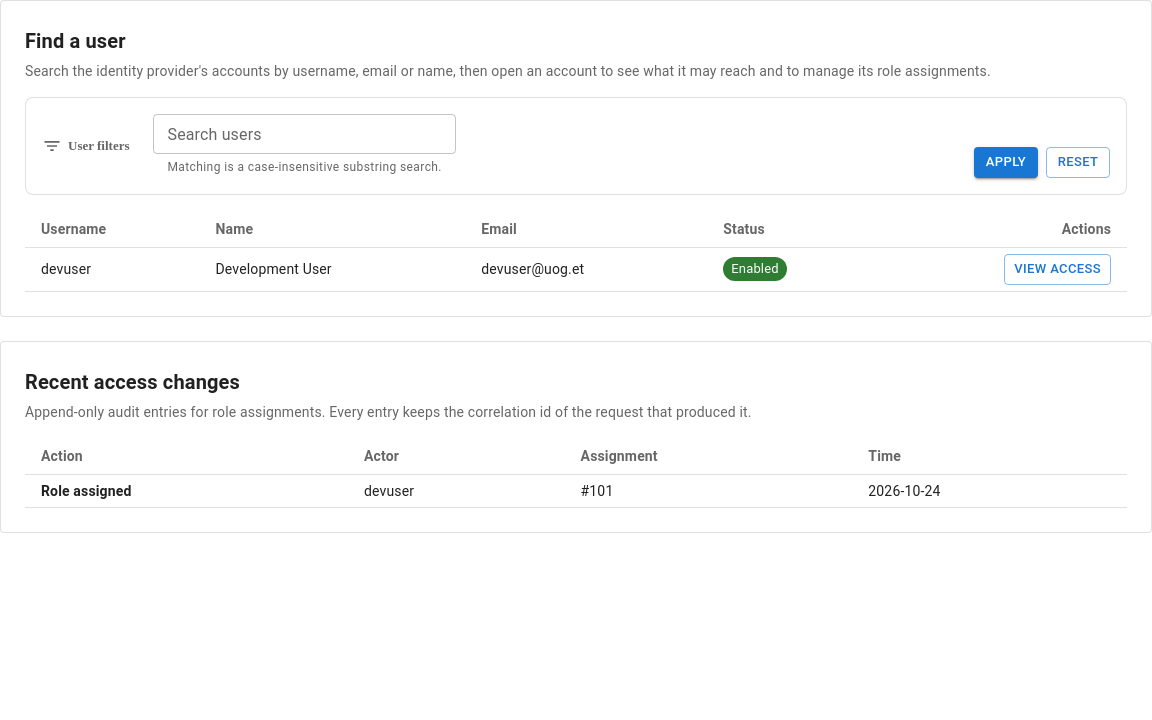
Test: AccessScreen — role visibility › disables assignment for a caller with nothing to grant, and says why
The width and height of the screenshot is (1152, 720).
Click the button with aria-label "View access for devuser": x=1058, y=269 1004,254 -> 1111,285
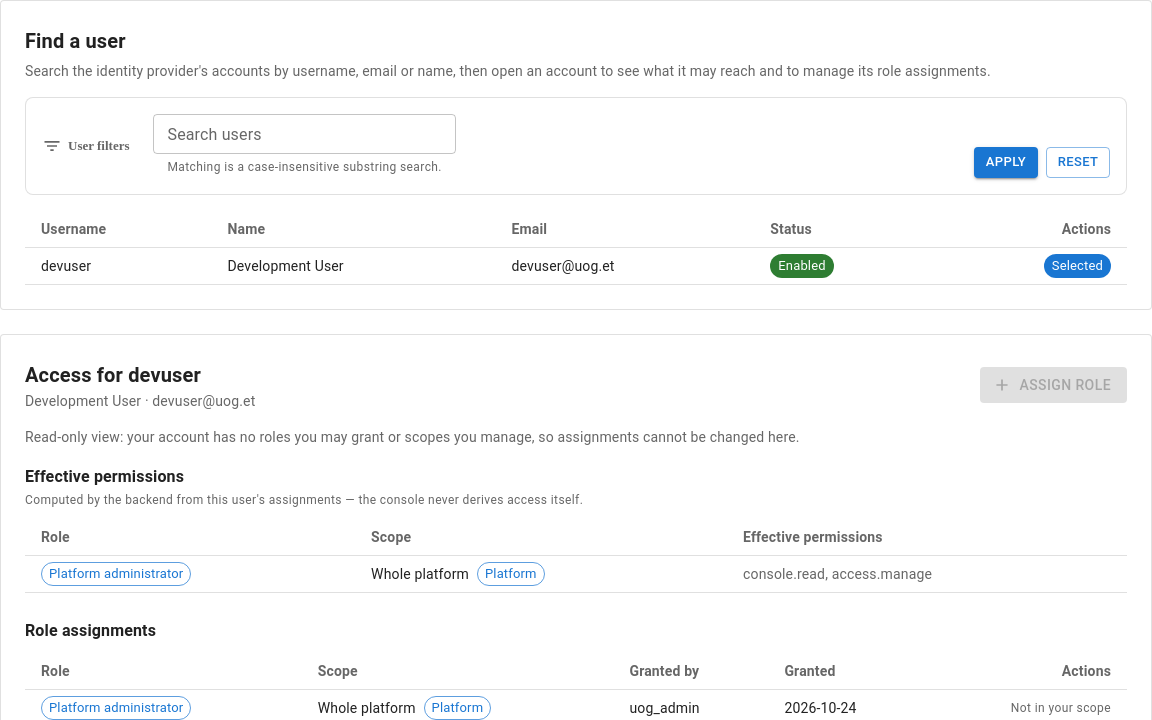
Check: the button "Assign role" is disabled, box 980,367 -> 1127,403
Check: the text "Read-only view" is shown, box 25,429 -> 800,445
